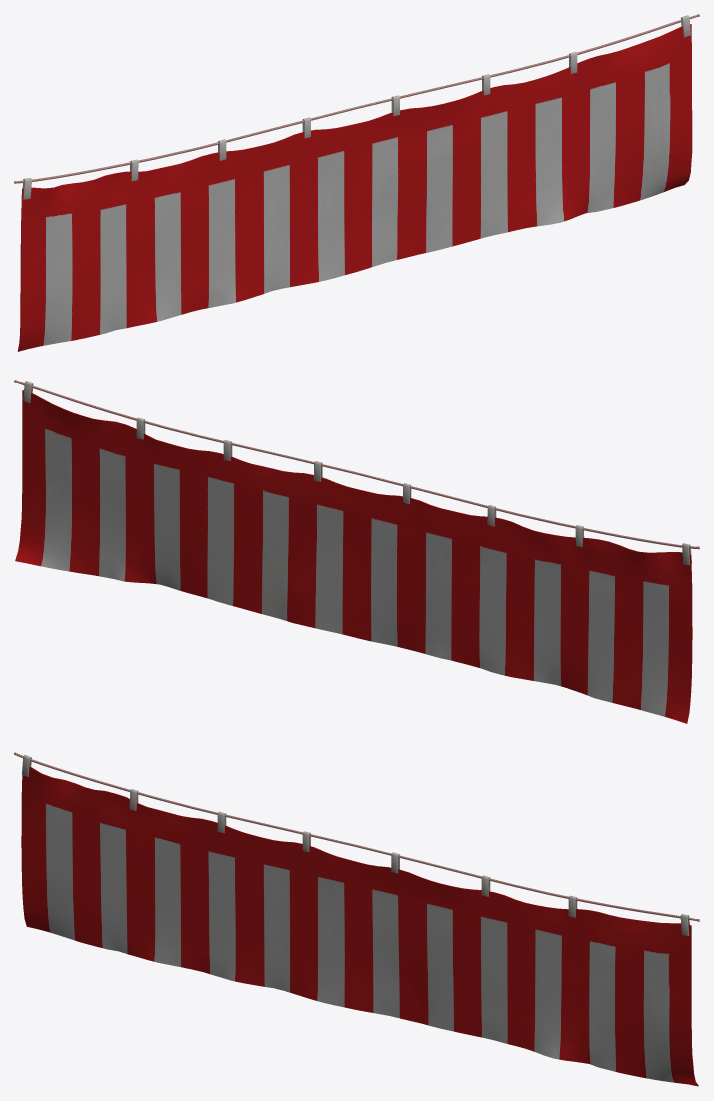
The model's file is Partition.fbx.
The picture shows the model from 3 angles, top to bottom: view 1: azimuth 30°, elevation 25°; view 2: azimuth 150°, elevation 25°; view 3: azimuth 330°, elevation 25°; orthographic projection.
Parts seen in each view (by area): view 1: Partition; view 2: Partition; view 3: Partition.
Boxes of the visible parts, x1=… form: Partition: x1=14, y1=14, x2=699, y2=351; Partition: x1=14, y1=380, x2=699, y2=723; Partition: x1=14, y1=752, x2=699, y2=1086.
Bounding box in the file's own units: 9.87 × 2.44 × 0.2598.
